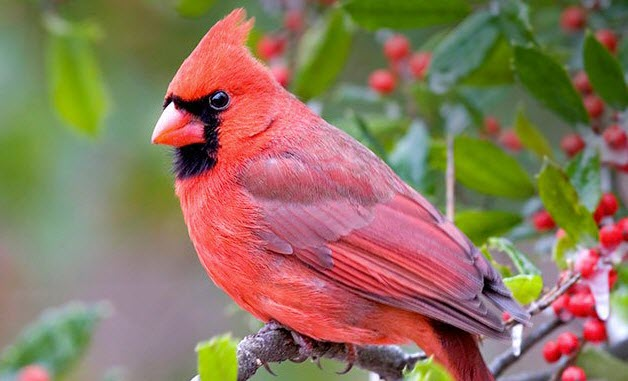bird: (171, 32, 512, 355)
